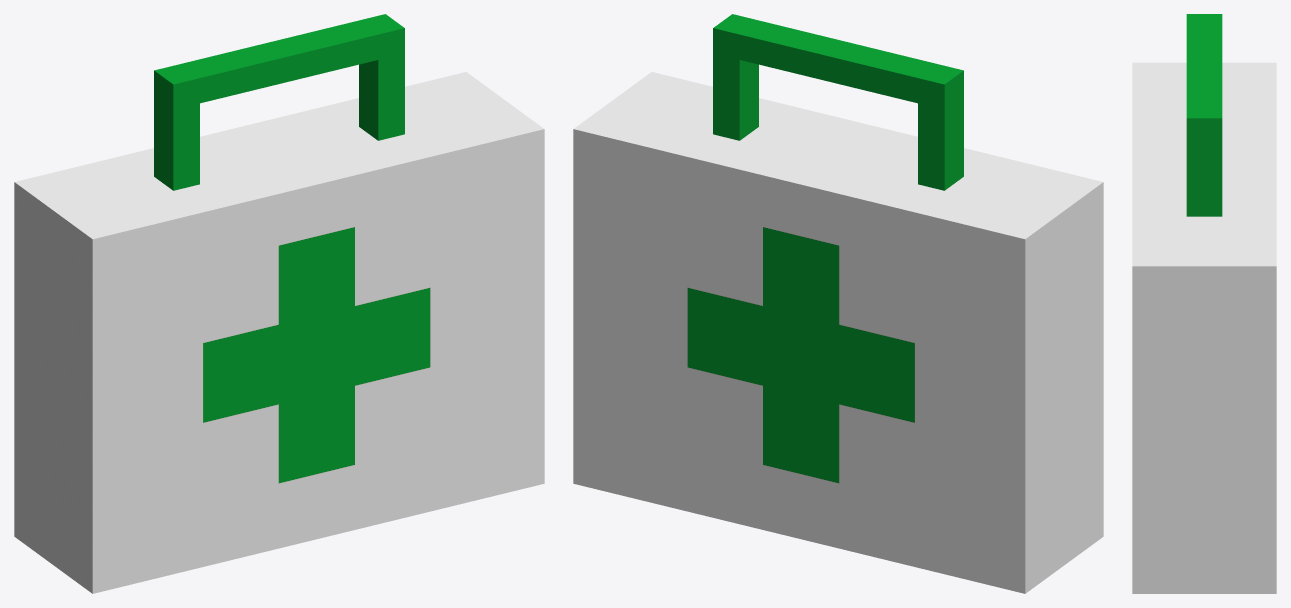
The model's file is FirstAid.fbx.
3 views of the same model, side by side, from view 1: azimuth 30°, elevation 25°; view 2: azimuth 150°, elevation 25°; view 3: azimuth 270°, elevation 25° (orthographic). The views are drawn at different scales.
Visible parts, largest first — view 1: firstaid; view 2: firstaid; view 3: firstaid.
Part boxes in pixels (left/top/right/bottom): firstaid: left=14, top=14, right=544, bottom=593; firstaid: left=573, top=14, right=1103, bottom=593; firstaid: left=1132, top=14, right=1276, bottom=593.
Size of the model in its own units: 200 by 195 by 60.
